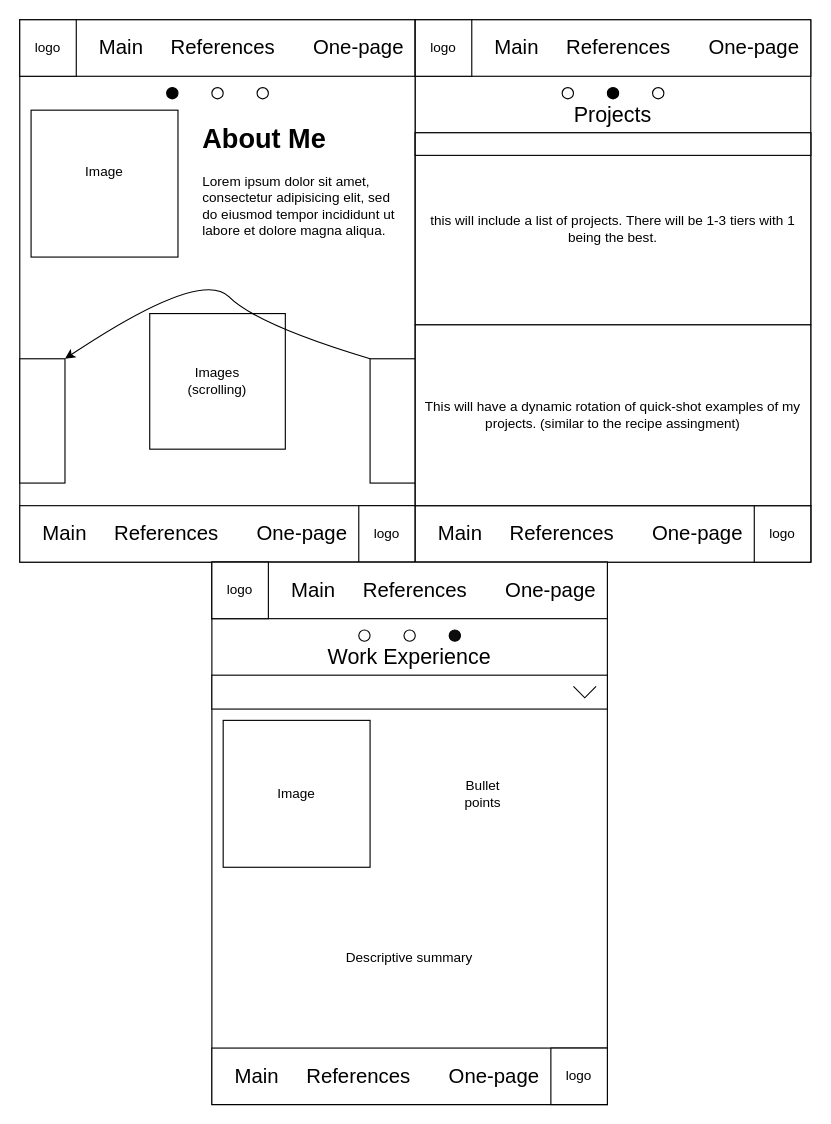
Image size: 831x1124. Some labels were removed from this diagram. Each missing label, with the centre of its shape:
Dropdown menu of prior experiences: the point at 409,691
Tier 1: the point at 612,143
